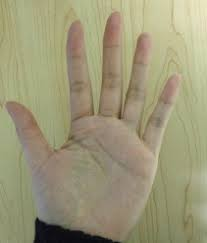palm: (3, 10, 183, 237)
